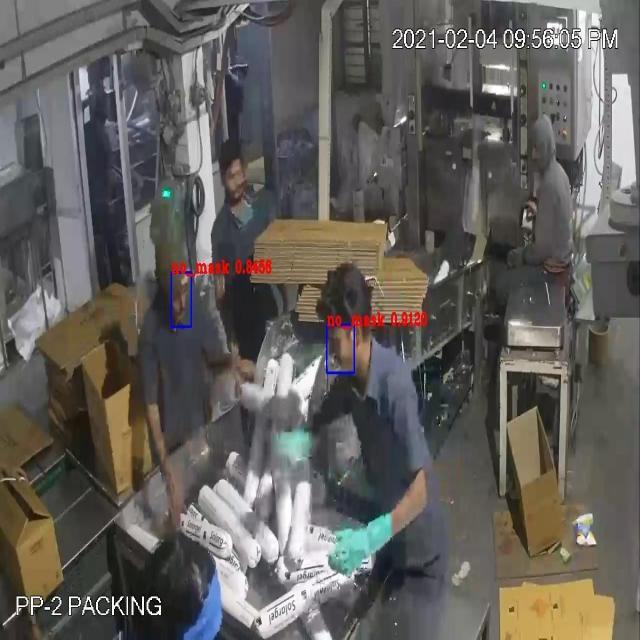No_Gloves: (51, 64, 358, 545)
